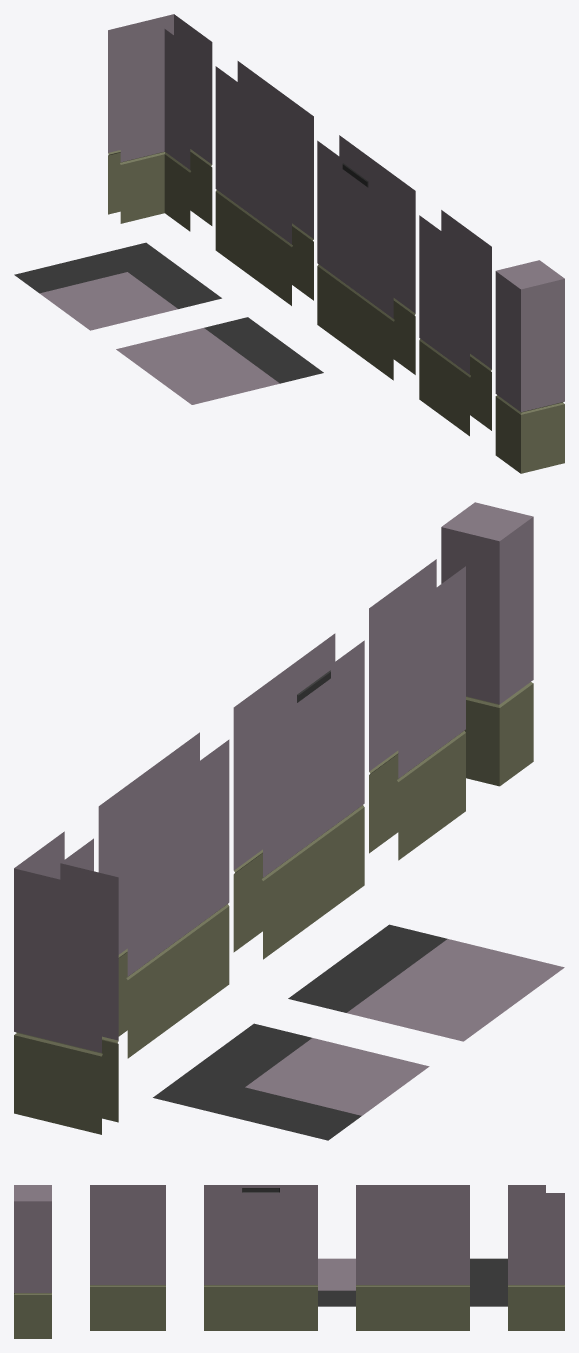
File: Wall_Set.fbx
The picture shows the model from 3 angles, top to bottom: view 1: azimuth 30°, elevation 25°; view 2: azimuth 150°, elevation 25°; view 3: azimuth 270°, elevation 25°; orthographic projection. The views are drawn at different scales.
Visible parts, largest first — view 1: Wall_Ugl, Wall_3x4_vent, Wall_3x4, Wall_2x4, Wall_Stolb, Floor_3x3_F, Floor_3x3_I; view 2: Wall_3x4_vent, Wall_3x4, Wall_Ugl, Wall_2x4, Wall_Stolb, Floor_3x3_F, Floor_3x3_I; view 3: Wall_3x4, Wall_3x4_vent, Wall_2x4, Wall_Ugl, Wall_Stolb, Floor_3x3_F, Floor_3x3_I.
Part boxes in pixels (<box>): Wall_Ugl: <box>108,14,212,231</box>; Wall_3x4_vent: <box>317,135,415,380</box>; Wall_3x4: <box>215,61,313,305</box>; Wall_2x4: <box>419,210,491,436</box>; Wall_Stolb: <box>495,260,564,473</box>; Floor_3x3_F: <box>14,242,221,330</box>; Floor_3x3_I: <box>116,317,323,404</box>; Wall_3x4_vent: <box>233,633,364,959</box>; Wall_3x4: <box>98,732,229,1058</box>; Wall_Ugl: <box>14,831,118,1134</box>; Wall_2x4: <box>369,559,465,860</box>; Wall_Stolb: <box>441,502,533,786</box>; Floor_3x3_F: <box>153,1023,429,1140</box>; Floor_3x3_I: <box>288,924,564,1041</box>; Wall_3x4: <box>356,1185,469,1330</box>; Wall_3x4_vent: <box>204,1185,317,1330</box>; Wall_2x4: <box>90,1185,165,1330</box>; Wall_Ugl: <box>508,1185,564,1330</box>; Wall_Stolb: <box>14,1185,51,1338</box>; Floor_3x3_F: <box>470,1258,507,1306</box>; Floor_3x3_I: <box>318,1258,355,1306</box>.
Bounding box in the file's own units: 500 × 400 × 1450.
